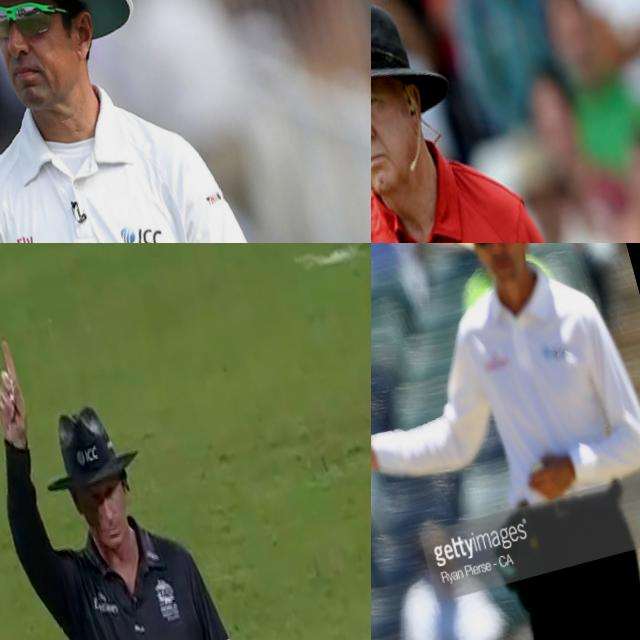No_Action: (0, 0, 331, 243)
No_Ball: (371, 243, 640, 640), (371, 0, 640, 243)
Out: (0, 291, 259, 640)
